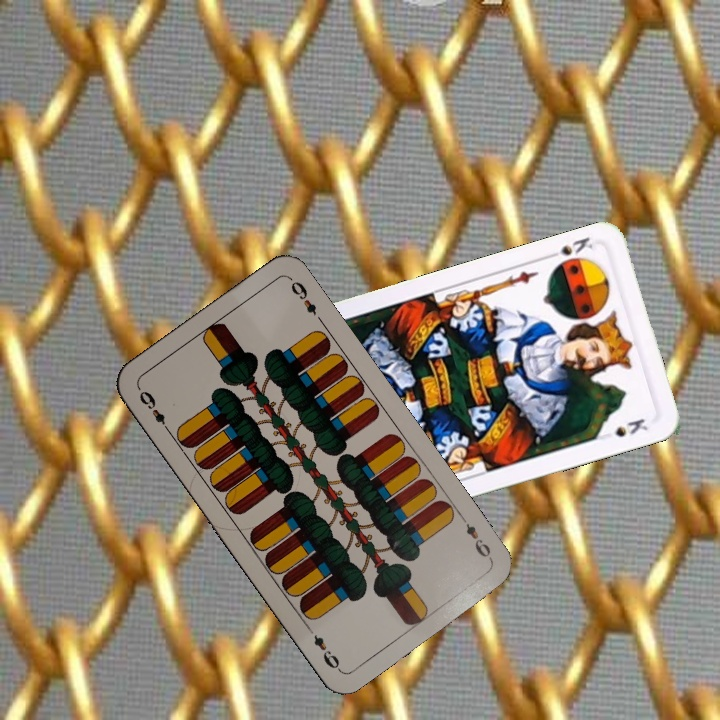E9: (456, 511, 495, 563), (135, 386, 174, 436)
SK: (542, 233, 595, 262)
